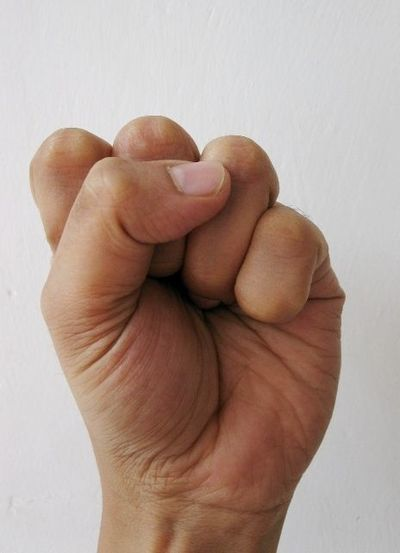closedhandfront: (12, 104, 378, 509)
